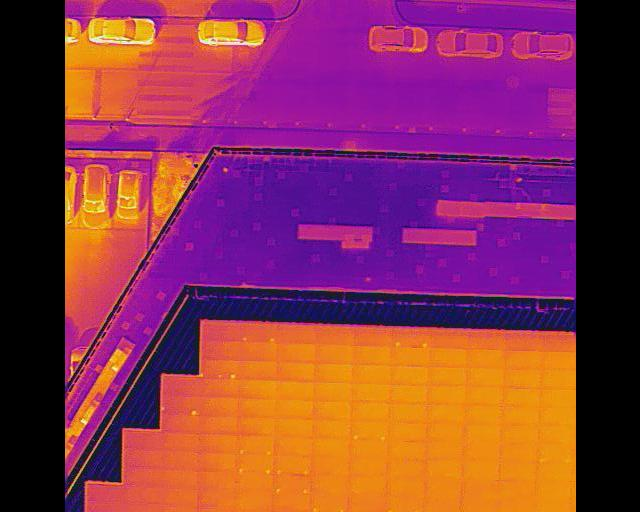Cell-Multi: (237, 435, 274, 456), (390, 329, 430, 348), (236, 324, 276, 343), (159, 397, 198, 416), (349, 422, 390, 440), (236, 455, 273, 474), (200, 360, 237, 379), (273, 457, 312, 475), (311, 494, 347, 512), (275, 476, 311, 494), (387, 497, 424, 512)
No-Anomaly: (350, 401, 390, 423), (312, 439, 351, 460), (275, 380, 313, 401), (537, 426, 576, 446), (198, 416, 237, 436), (465, 369, 504, 389), (276, 362, 313, 383), (388, 385, 428, 404), (388, 441, 426, 461), (387, 477, 425, 497), (275, 325, 315, 344), (274, 438, 312, 458), (237, 360, 275, 380), (237, 399, 275, 419), (198, 397, 236, 417), (502, 332, 540, 352), (499, 444, 537, 464), (462, 425, 500, 445), (461, 479, 499, 499), (389, 404, 428, 423), (537, 445, 576, 464), (351, 384, 390, 403), (350, 364, 389, 383), (312, 421, 351, 440), (236, 380, 275, 399), (429, 348, 466, 368), (425, 478, 462, 498), (350, 476, 387, 496), (313, 364, 350, 384), (237, 417, 274, 437), (199, 435, 236, 455), (161, 468, 198, 488), (123, 431, 160, 451), (499, 482, 536, 502), (538, 389, 576, 408), (352, 327, 390, 346), (351, 346, 389, 365), (350, 441, 388, 460), (311, 458, 349, 477), (313, 402, 351, 421), (275, 400, 313, 419), (274, 419, 312, 438), (199, 342, 237, 361), (499, 426, 537, 445), (498, 464, 536, 483), (464, 406, 502, 425), (461, 443, 499, 462), (389, 348, 429, 366), (535, 481, 571, 501), (200, 322, 236, 342), (197, 489, 237, 507), (464, 387, 500, 407), (427, 404, 464, 423), (426, 385, 463, 404), (430, 330, 467, 349), (466, 350, 503, 369), (388, 460, 427, 478), (312, 383, 351, 401), (198, 454, 237, 472), (500, 408, 539, 426), (124, 468, 159, 488), (428, 367, 464, 386), (425, 460, 463, 478), (389, 367, 427, 385), (540, 371, 576, 390), (350, 459, 388, 477), (315, 326, 351, 345), (315, 344, 351, 363), (312, 477, 350, 495), (276, 344, 314, 362), (200, 379, 236, 398), (163, 378, 199, 397), (161, 416, 199, 434), (123, 449, 161, 467), (503, 351, 541, 369), (467, 331, 503, 350), (426, 424, 463, 442), (390, 423, 427, 441), (539, 408, 576, 426), (239, 343, 276, 361), (160, 450, 197, 468), (123, 486, 160, 504), (87, 485, 124, 503), (501, 390, 538, 408), (504, 370, 539, 389), (463, 461, 498, 480), (198, 472, 237, 489), (426, 442, 462, 460), (540, 333, 576, 351), (542, 352, 576, 371), (161, 434, 199, 451), (274, 494, 311, 511), (237, 491, 274, 508), (535, 465, 571, 482), (238, 474, 274, 491), (348, 496, 386, 512), (160, 489, 197, 505), (423, 498, 459, 512), (461, 500, 498, 512), (536, 500, 570, 512), (498, 501, 535, 512), (87, 501, 123, 512), (125, 503, 161, 512), (161, 505, 197, 512), (198, 507, 237, 512), (238, 507, 273, 512)
